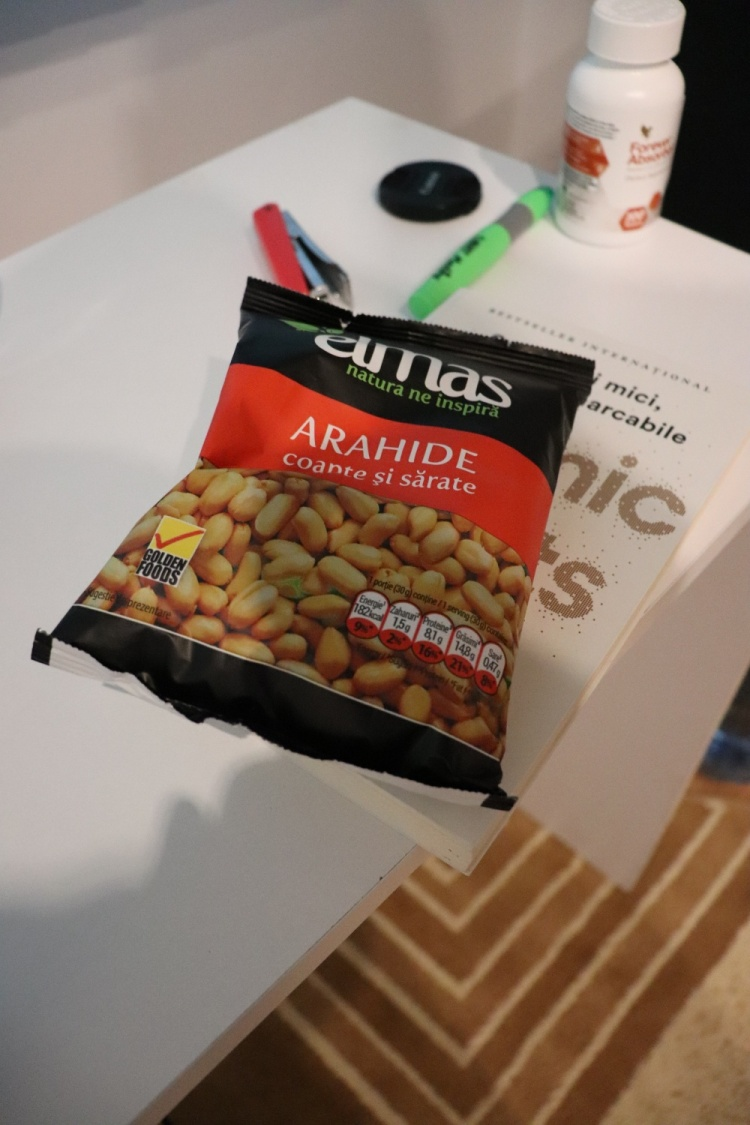peanuts: (58, 277, 596, 840)
